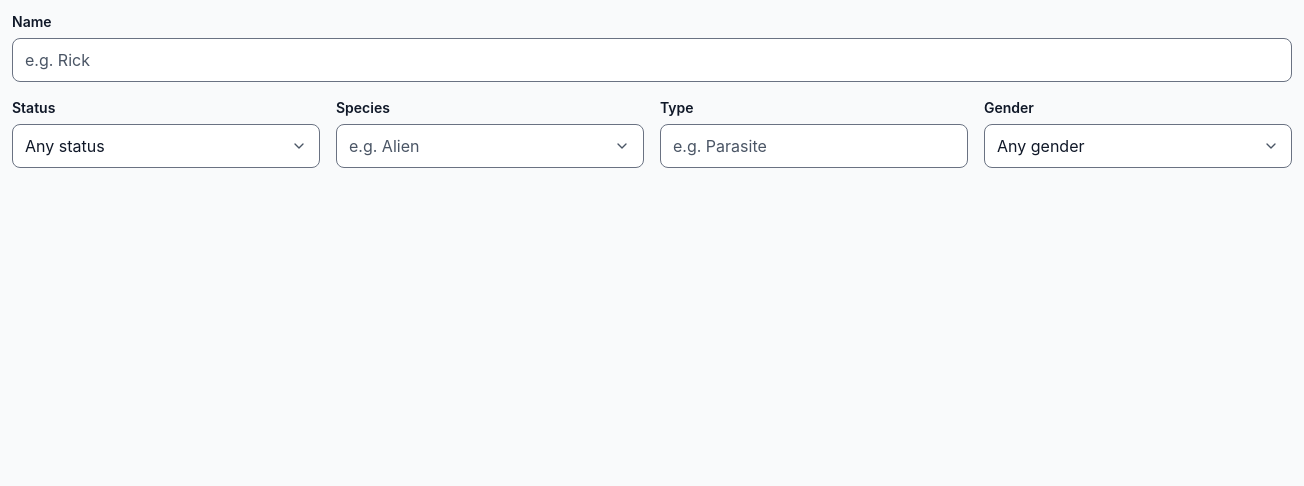
Test: CharacterFiltersForm › suggests the known species from the species button
Click the button named "Species".
click(622, 146)  # box [600,124,644,168]
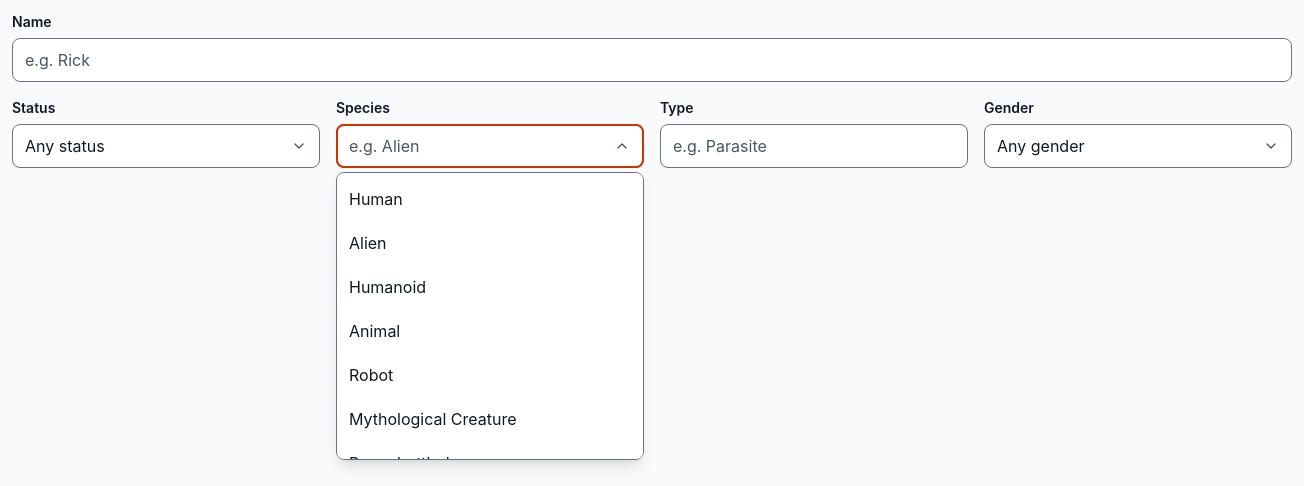
Expected: the option "Mythological Creature" is shown, [337,397,643,441]
